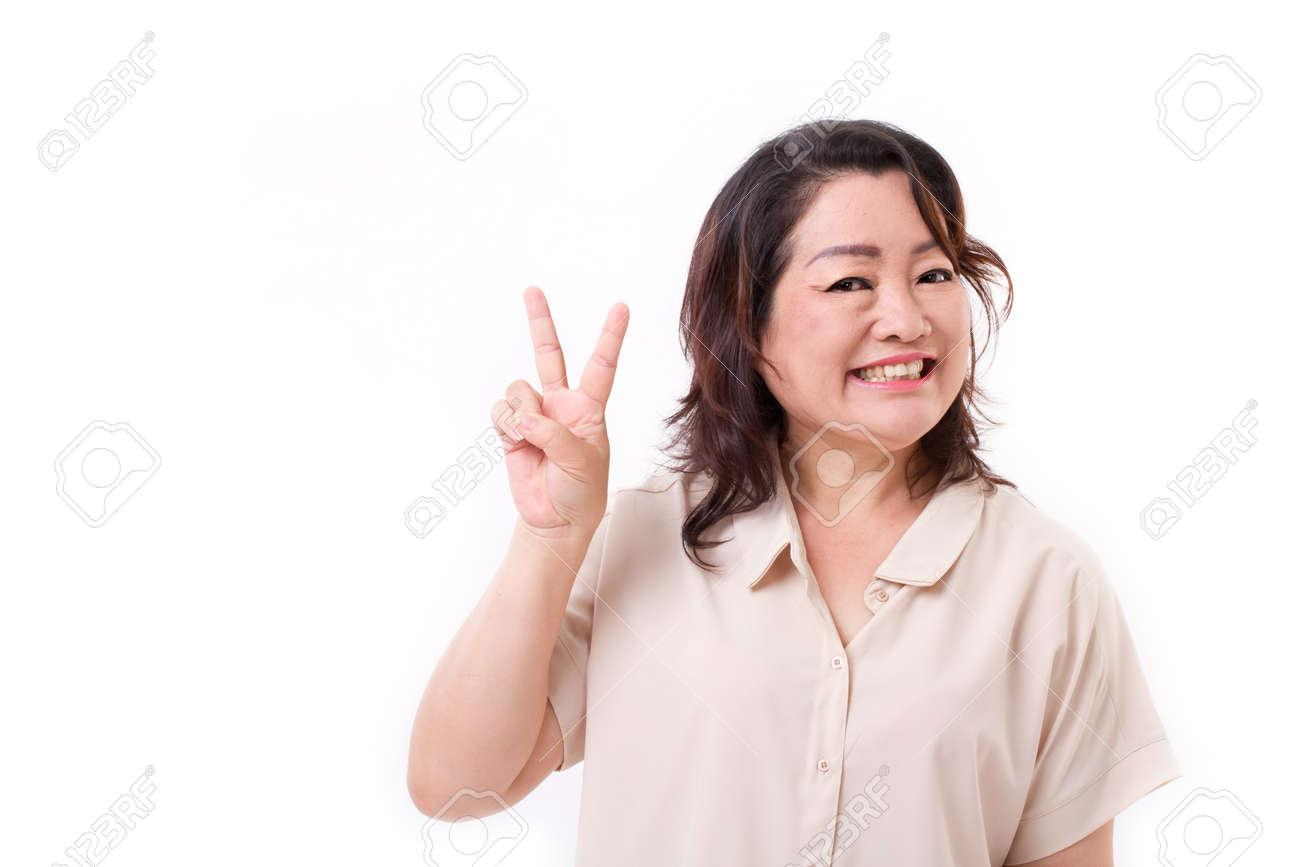peace_sign: (487, 280, 639, 539)
